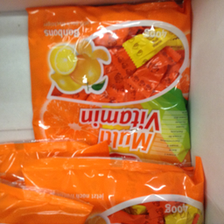candy: (29, 5, 192, 167), (13, 158, 204, 224)
